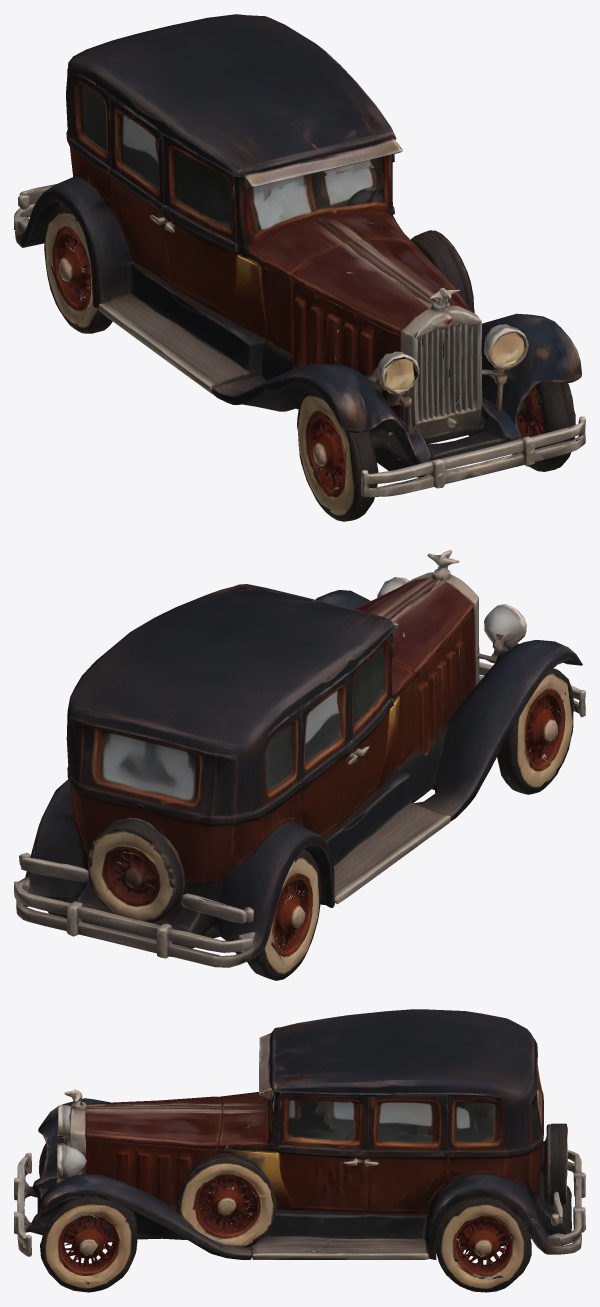
Rendered from luxury-sedan-burgundy.glb.
3 renders of one model, top to bottom at view 1: azimuth 30°, elevation 25°; view 2: azimuth 150°, elevation 25°; view 3: azimuth 270°, elevation 25°, orthographic. The views are drawn at different scales.
Parts seen in each view (by area): view 1: SM_LuxurySedanBurgundy; view 2: SM_LuxurySedanBurgundy; view 3: SM_LuxurySedanBurgundy.
Part boxes in pixels (bbox=[...]): SM_LuxurySedanBurgundy: bbox=[14, 14, 585, 521]; SM_LuxurySedanBurgundy: bbox=[14, 550, 585, 980]; SM_LuxurySedanBurgundy: bbox=[14, 1009, 585, 1292].
Bounding box in the file's own units: 1.87 × 2.04 × 4.9.
1 material, 1 textured.
